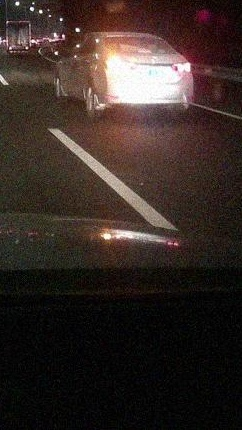L_light: (107, 59, 129, 71)
R_light: (171, 62, 191, 74)
T_light: (127, 37, 145, 40)
night-no: (97, 33, 193, 120)
